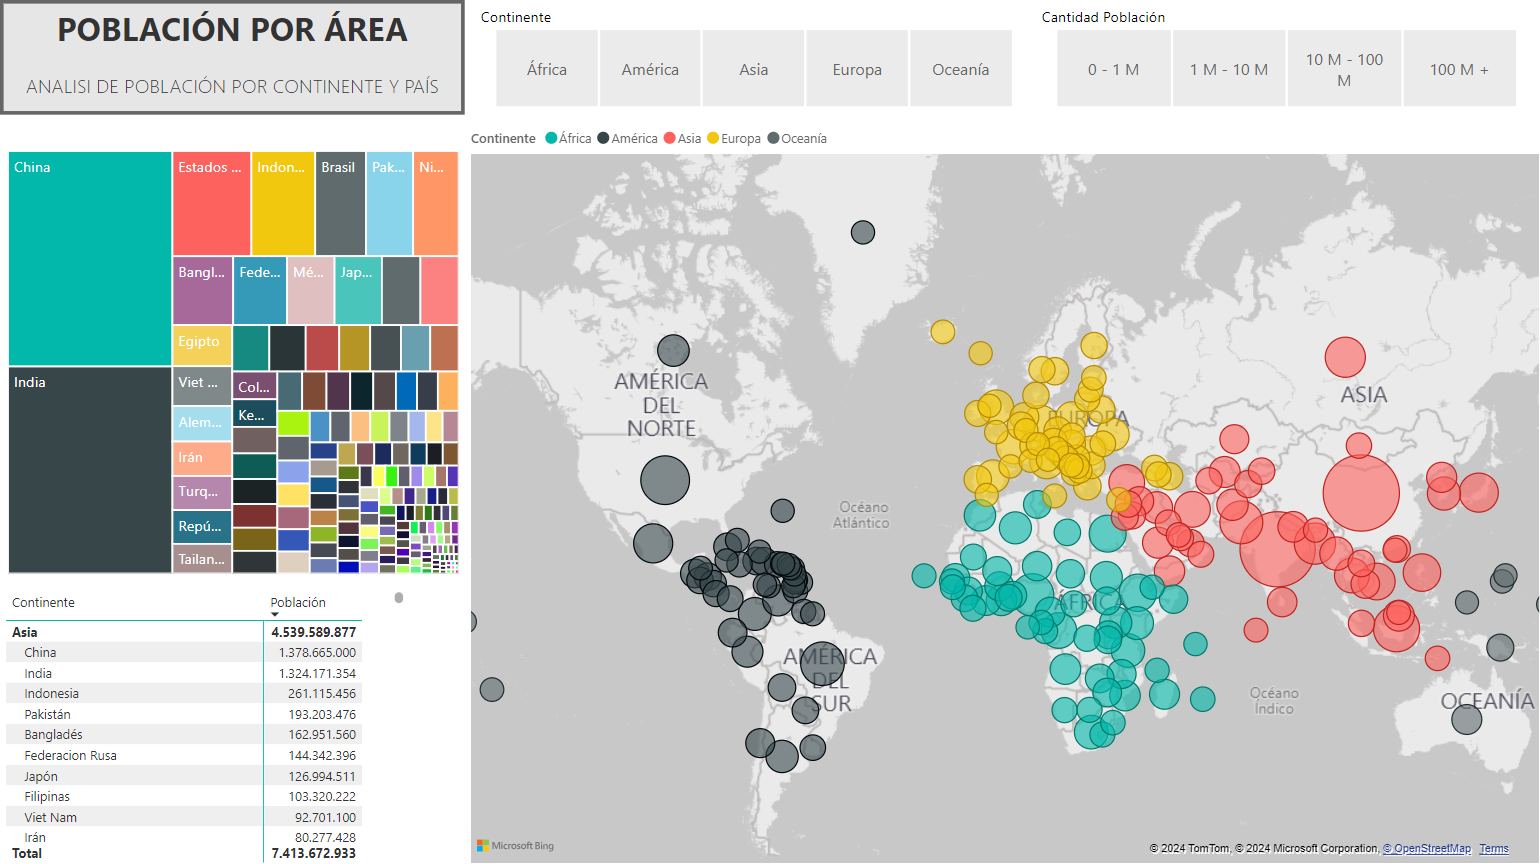

The page's visual inventory and layout, read from the dashboard file:
{"tool":"powerbi","page":{"name":"Población por área","canvas":[1280,720],"ordinal":0},"visuals":[{"type":"pivotTable","fields":{"Rows":["Paises.Continente","Paises.Pais"],"Values":["Sum(Population.Población)"]},"box":[0,485.3,385.4,234.7],"z":0},{"type":"slicer","fields":{"Values":["Population.Cantidad Población"]},"box":[850,0,430,95],"z":1000},{"type":"slicer","fields":{"Values":["Paises.Continente"]},"box":[385,0,476.7,95],"z":2000},{"type":"treemap","fields":{"Group":["Paises.Pais"],"Values":["Sum(Population.Población)"]},"box":[1.7,120,383.3,360],"z":3000},{"type":"map","fields":{"Category":["Paises.Pais"],"Size":["Sum(Population.Población)"],"Series":["Paises.Continente"]},"box":[385,95,895,625],"z":4000},{"type":"shape","box":[4.4,7,385.4,94.6],"z":5000},{"type":"textbox","box":[1.7,0,366.7,60],"z":6000},{"type":"textbox","box":[1.7,0,383.3,76.7],"z":7000},{"type":"textbox","box":[0,7,385.4,87.6],"z":8000}]}

Visuals, with their boxes in screenshot pixels (x1, y1, x2, y2), scaled from the page's 1280x720 canvas onto the 1540x864 screenshot:
pivotTable - Paises.Continente x Paises.Pais: {"left": 0, "top": 582, "right": 464, "bottom": 863}
slicer - Population.Cantidad Población: {"left": 1023, "top": 0, "right": 1539, "bottom": 114}
slicer - Paises.Continente: {"left": 463, "top": 0, "right": 1037, "bottom": 114}
treemap - Paises.Pais x Sum(Population.Población): {"left": 2, "top": 144, "right": 463, "bottom": 576}
map - Paises.Pais x Sum(Population.Población): {"left": 463, "top": 114, "right": 1539, "bottom": 863}
shape: {"left": 5, "top": 8, "right": 469, "bottom": 122}
textbox: {"left": 2, "top": 0, "right": 443, "bottom": 72}
textbox: {"left": 2, "top": 0, "right": 463, "bottom": 92}
textbox: {"left": 0, "top": 8, "right": 464, "bottom": 114}
